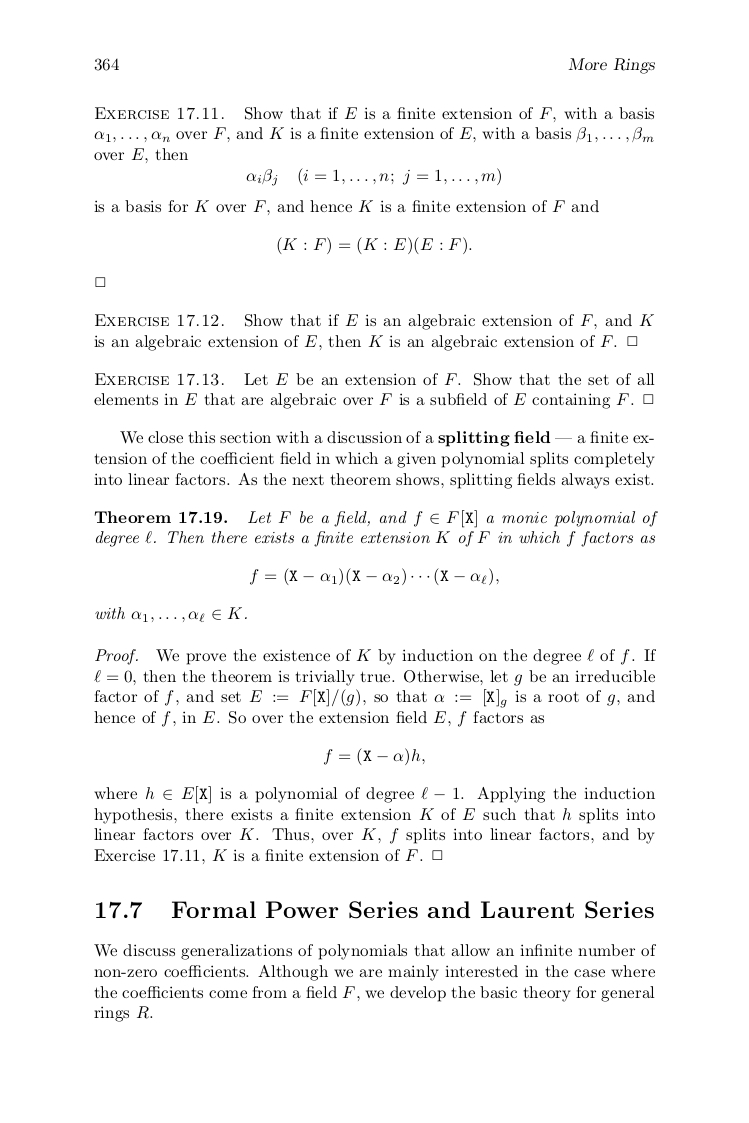formula: (246, 167, 500, 186), (250, 567, 498, 586), (277, 236, 471, 255), (324, 747, 424, 766)
